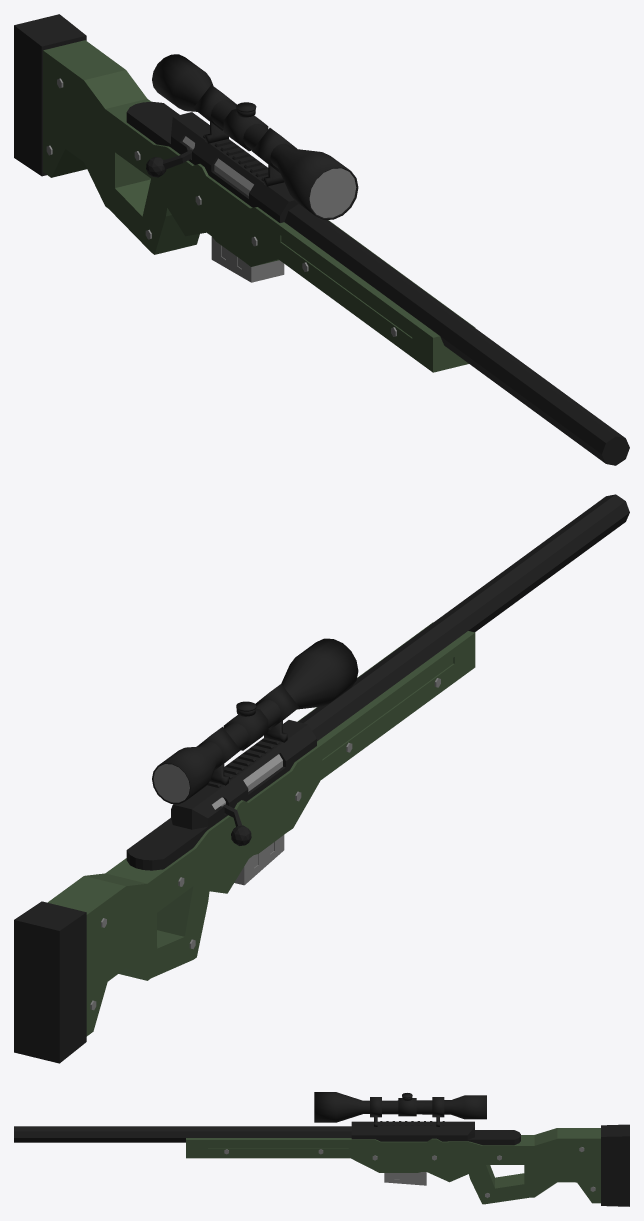
Rendered from awp__awp_low_poly.glb.
3 views of the same model, one above another, from view 1: azimuth 30°, elevation 25°; view 2: azimuth 150°, elevation 25°; view 3: azimuth 270°, elevation 25° (orthographic). The views are drawn at different scales.
Visible parts, largest first — view 1: object 8, Canon, Scope, Rechargeur Case, Crosse, Glass, Chargeur, Rechargeur, Rechargeur.001; view 2: object 8, Canon, Crosse, Scope, Rechargeur Case, Rechargeur.001, Glass, Chargeur; view 3: object 8, Canon, Scope, Rechargeur Case, Crosse, Chargeur, Rechargeur.001, Vis.
Part boxes in pixels (x1,y1,x2,y2): object 8: (43, 40, 475, 372); Canon: (284, 204, 629, 465); Scope: (152, 54, 358, 219); Rechargeur Case: (126, 101, 298, 222); Crosse: (14, 14, 86, 176); Glass: (309, 168, 356, 217); Chargeur: (211, 237, 284, 282); Rechargeur: (182, 136, 253, 195); Rechargeur.001: (171, 112, 207, 149); object 8: (48, 622, 475, 1036); Canon: (298, 494, 629, 741); Crosse: (14, 901, 86, 1063); Scope: (152, 638, 358, 804); Rechargeur Case: (126, 720, 316, 870); Rechargeur.001: (171, 795, 216, 829); Glass: (153, 764, 189, 802); Chargeur: (234, 835, 284, 885); object 8: (186, 1128, 600, 1204); Canon: (14, 1126, 351, 1142); Scope: (314, 1092, 486, 1126); Rechargeur Case: (351, 1121, 520, 1145); Crosse: (601, 1124, 629, 1206); Chargeur: (384, 1172, 426, 1185); Rechargeur.001: (458, 1121, 474, 1139); Vis: (224, 1147, 595, 1197).
Bounding box in the file's own units: 40.77 × 103 × 538.
